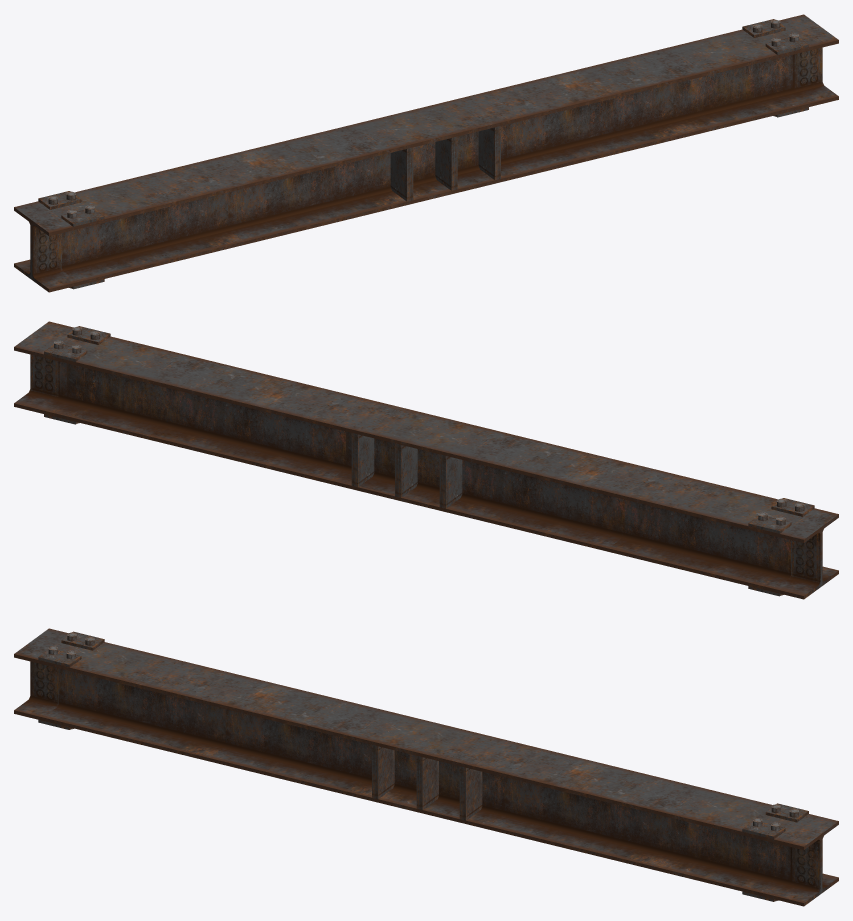
Rendered from Beam_01a_snaps005.fbx.
3 renders of one model, top to bottom at view 1: azimuth 30°, elevation 25°; view 2: azimuth 150°, elevation 25°; view 3: azimuth 330°, elevation 25°, orthographic.
Parts seen in each view (by area): view 1: Beam_01a_snaps005_LOD0; view 2: Beam_01a_snaps005_LOD0; view 3: Beam_01a_snaps005_LOD0.
Boxes of the visible parts, left/top/right/bottom form: Beam_01a_snaps005_LOD0: left=14, top=14, right=838, bottom=292; Beam_01a_snaps005_LOD0: left=14, top=321, right=838, bottom=599; Beam_01a_snaps005_LOD0: left=14, top=628, right=838, bottom=906.
Size of what is drawn, in the model's own units: 500 by 45.09 by 38.39.
